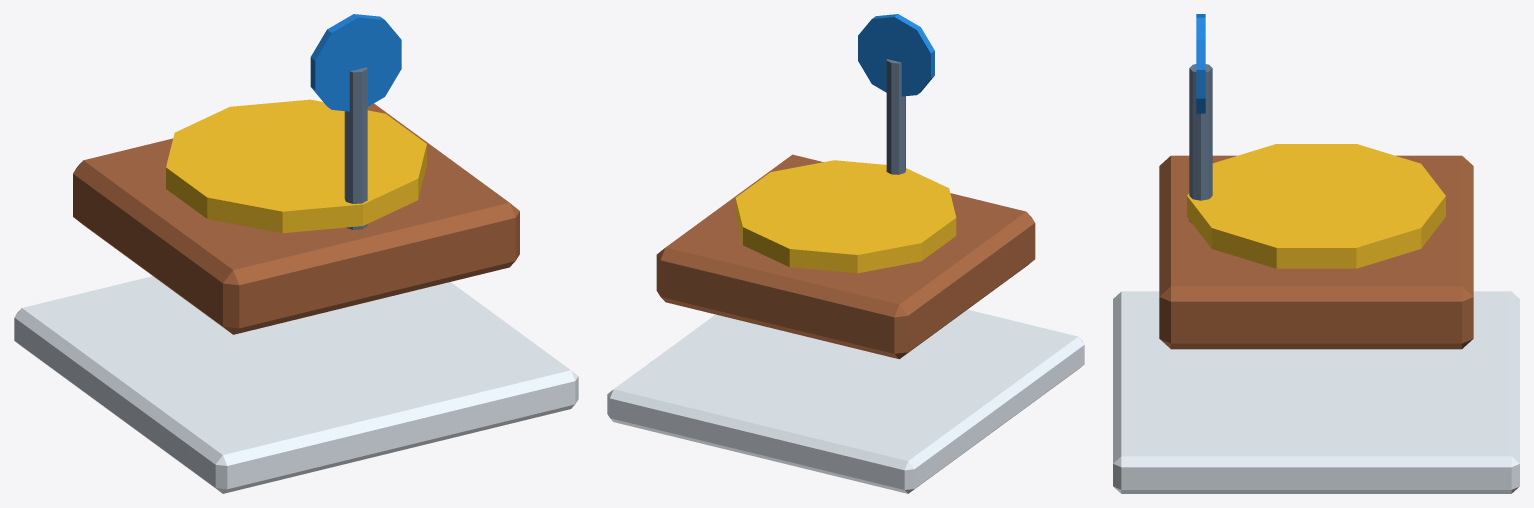
File: Building_Sorter_1x1_v001.fbx
3 renders of one model, left to right at view 1: azimuth 30°, elevation 25°; view 2: azimuth 150°, elevation 25°; view 3: azimuth 270°, elevation 25°, orthographic. The views are drawn at different scales.
Visible parts, largest first — view 1: Foundation, SortingTable, SortingPlate_Anim, IconPlate, IconStand; view 2: Foundation, SortingTable, SortingPlate_Anim, IconPlate, IconStand; view 3: Foundation, SortingTable, SortingPlate_Anim, IconStand, IconPlate.
Part boxes in pixels (bbox=[...]): Foundation: bbox=[14, 276, 578, 493]; SortingTable: bbox=[73, 103, 519, 334]; SortingPlate_Anim: bbox=[166, 99, 426, 233]; IconPlate: bbox=[310, 14, 401, 111]; IconStand: bbox=[344, 67, 367, 229]; Foundation: bbox=[607, 309, 1084, 493]; SortingTable: bbox=[656, 154, 1035, 359]; SortingPlate_Anim: bbox=[735, 160, 956, 273]; IconPlate: bbox=[858, 14, 934, 96]; IconStand: bbox=[886, 59, 905, 174]; Foundation: bbox=[1113, 291, 1519, 493]; SortingTable: bbox=[1159, 155, 1473, 349]; SortingPlate_Anim: bbox=[1187, 144, 1445, 268]; IconStand: bbox=[1189, 64, 1212, 223]; IconPlate: bbox=[1196, 14, 1205, 113].
Size of the model in its own units: 88 by 94 by 88.
